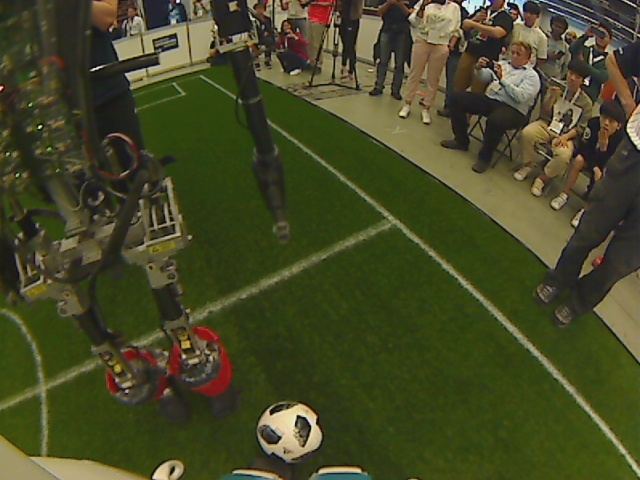ball: (254, 397, 322, 462)
